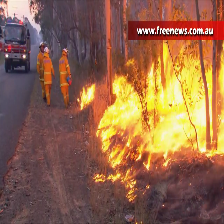fire_h: (94, 38, 224, 202), (108, 172, 137, 201), (79, 83, 95, 110)
fire_l: (94, 174, 105, 182), (142, 185, 150, 195)
